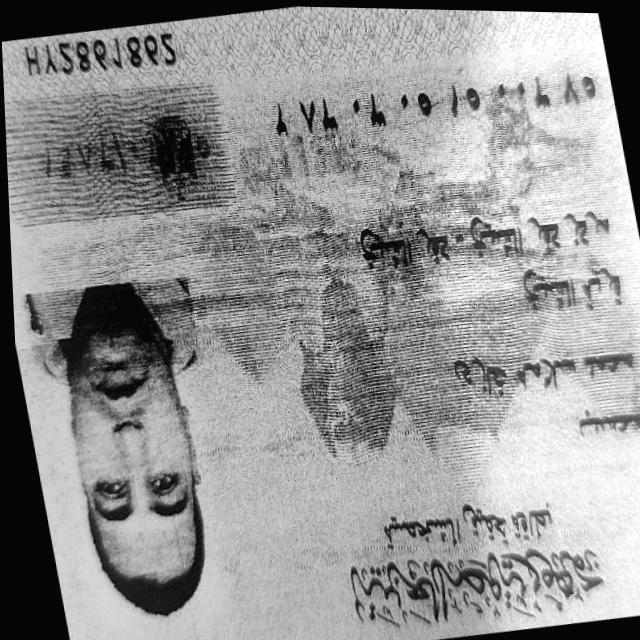id_card: (2, 7, 640, 640)
